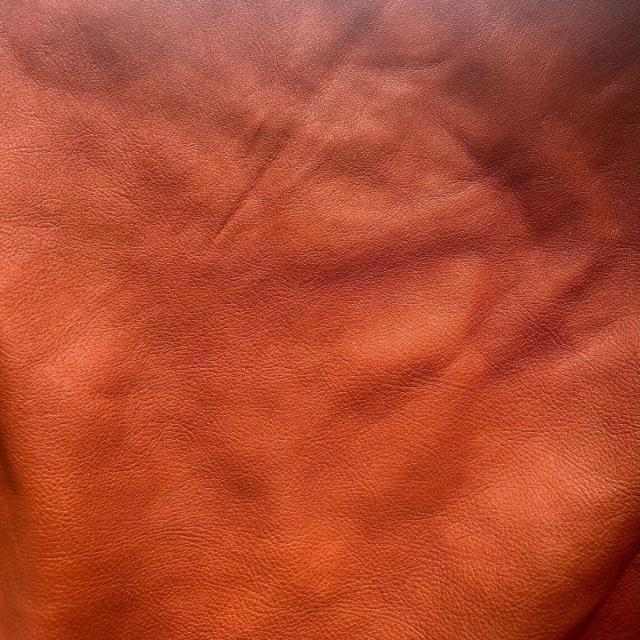Crease: (22, 354, 180, 569), (460, 430, 612, 622), (332, 170, 520, 300)
